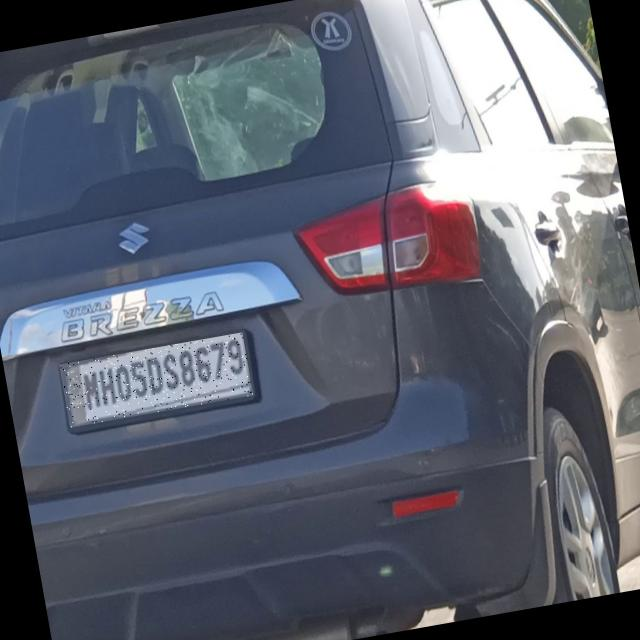Plate: (60, 333, 254, 428)
